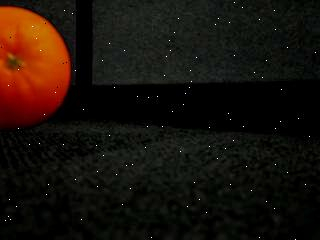Orange: (0, 5, 75, 137)
